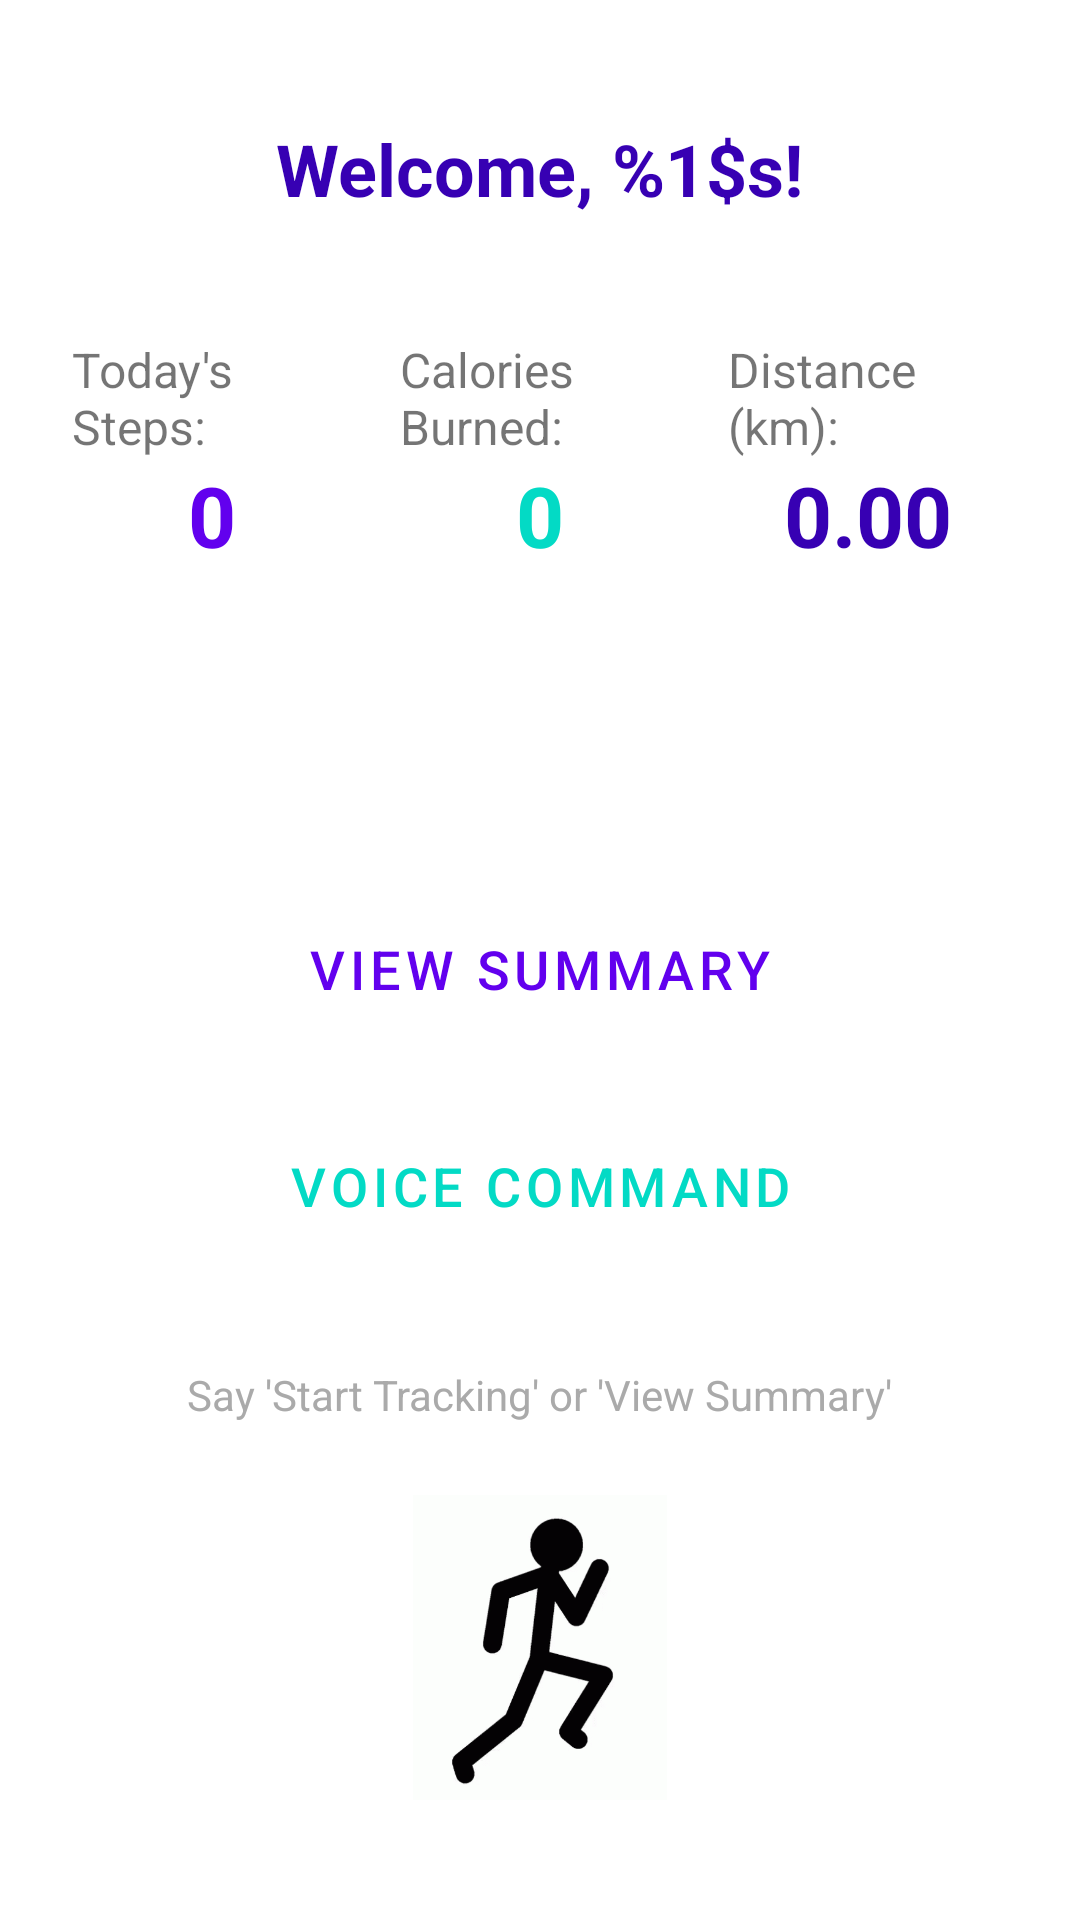

Point at icon controls on the screen. Image size 1080×1920, points as (x,y).
A person running: (532,1651)
